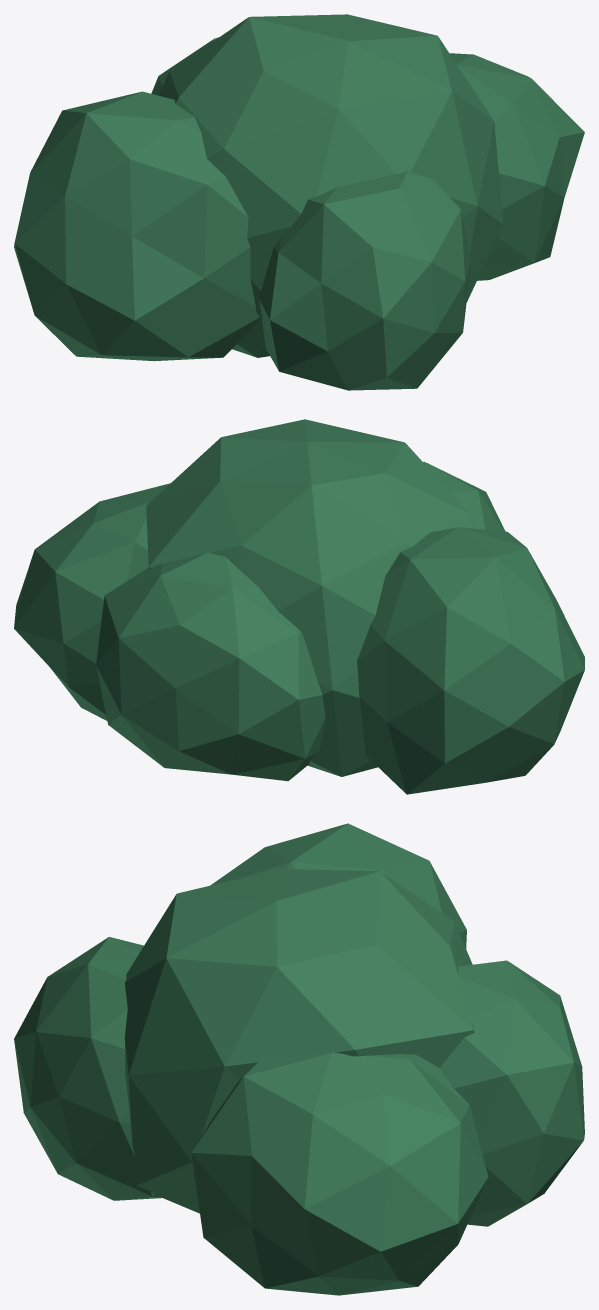
Rendered from Bush.fbx.
The picture shows the model from 3 angles, top to bottom: view 1: azimuth 30°, elevation 25°; view 2: azimuth 150°, elevation 25°; view 3: azimuth 270°, elevation 25°; orthographic projection. The views are drawn at different scales.
Parts seen in each view (by area): view 1: Bush; view 2: Bush; view 3: Bush.
Boxes of the visible parts, <box> form: Bush: <box>14,14,584,390</box>; Bush: <box>14,419,584,794</box>; Bush: <box>14,823,584,1295</box>.
Size of the model in its own units: 1.7 by 0.7956 by 1.39.
